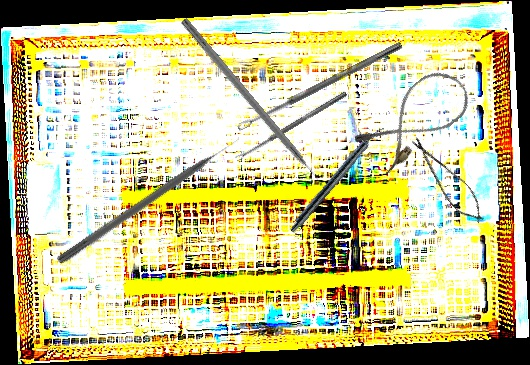Cannula: (350, 60, 479, 179)
Handpiece: (288, 122, 386, 236)
Hook Surgical: (178, 17, 327, 191)
Micro Scissor: (402, 130, 493, 231)
Pusher: (55, 134, 244, 268)
Surgical Spoon: (236, 40, 403, 132), (234, 90, 348, 162)
